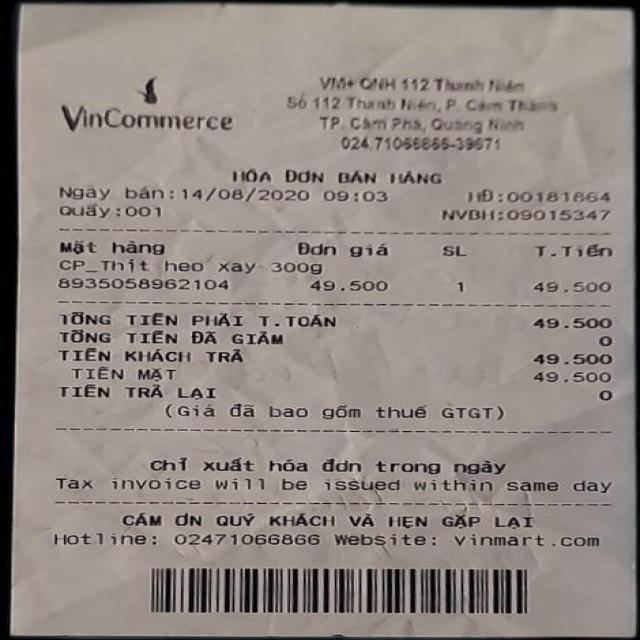Date: (177, 186, 311, 206)
Store_Name: (41, 53, 278, 145)
Total_Amount: (47, 301, 618, 334)
